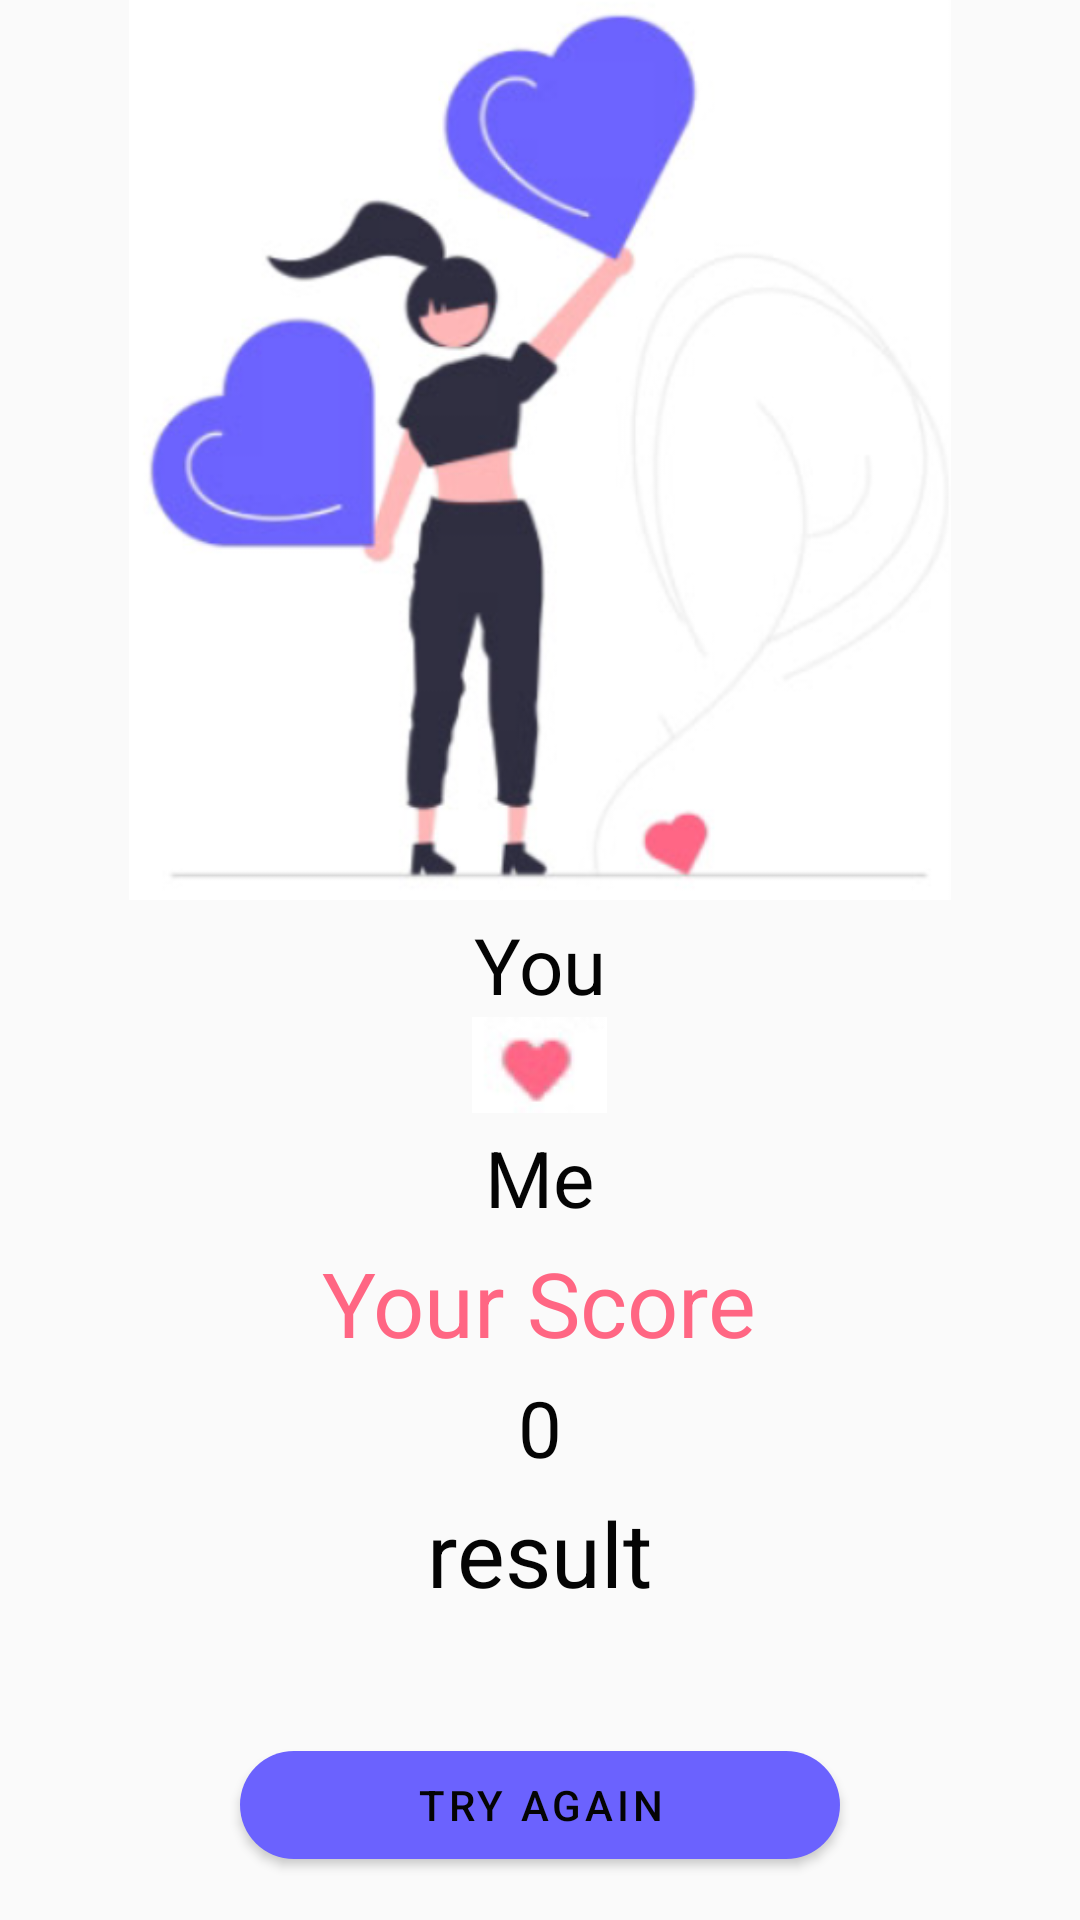

Locate icon controls on the screen. Image size 1080*1920, boxes as [x1,y1,x2,y2].
heart: [501,1038,572,1102]
